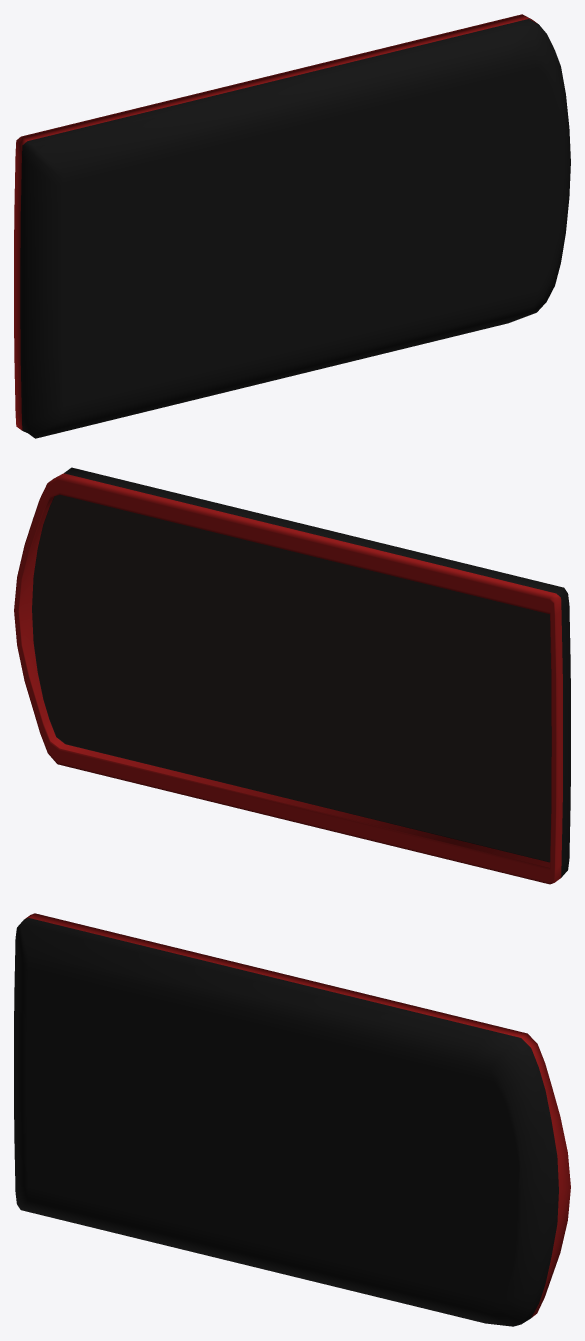
Rendered from Ship 3x12.fbx.
The picture shows the model from 3 angles, top to bottom: view 1: azimuth 30°, elevation 25°; view 2: azimuth 150°, elevation 25°; view 3: azimuth 330°, elevation 25°; orthographic projection.
Parts seen in each view (by area): view 1: Ship 3*012; view 2: Ship 3*012; view 3: Ship 3*012.
Boxes of the visible parts, box(x1,y1,x2,y2) form: Ship 3*012: box(14, 14, 570, 438); Ship 3*012: box(14, 467, 570, 884); Ship 3*012: box(14, 913, 570, 1326).
Size of the model in its own units: 1862 by 144 by 939.
